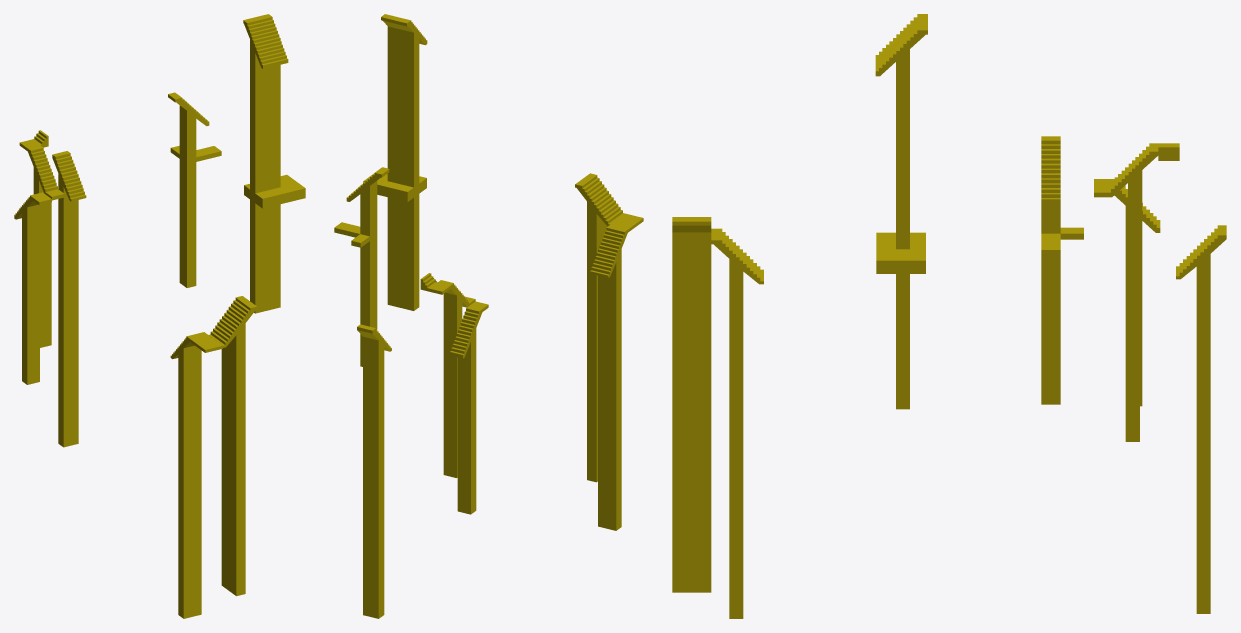
Rendered from Stairs.fbx.
3 views of the same model, side by side, from view 1: azimuth 30°, elevation 25°; view 2: azimuth 150°, elevation 25°; view 3: azimuth 270°, elevation 25° (orthographic). The views are drawn at different scales.
Visible parts, largest first — view 1: Stairs; view 2: Stairs; view 3: Stairs.
Part boxes in pixels (x1,y1,x2,y2): Stairs: (14, 14, 305, 618); Stairs: (334, 14, 643, 618); Stairs: (672, 14, 1226, 618).
Size of the model in its own units: 2910 by 7694 by 5680.
